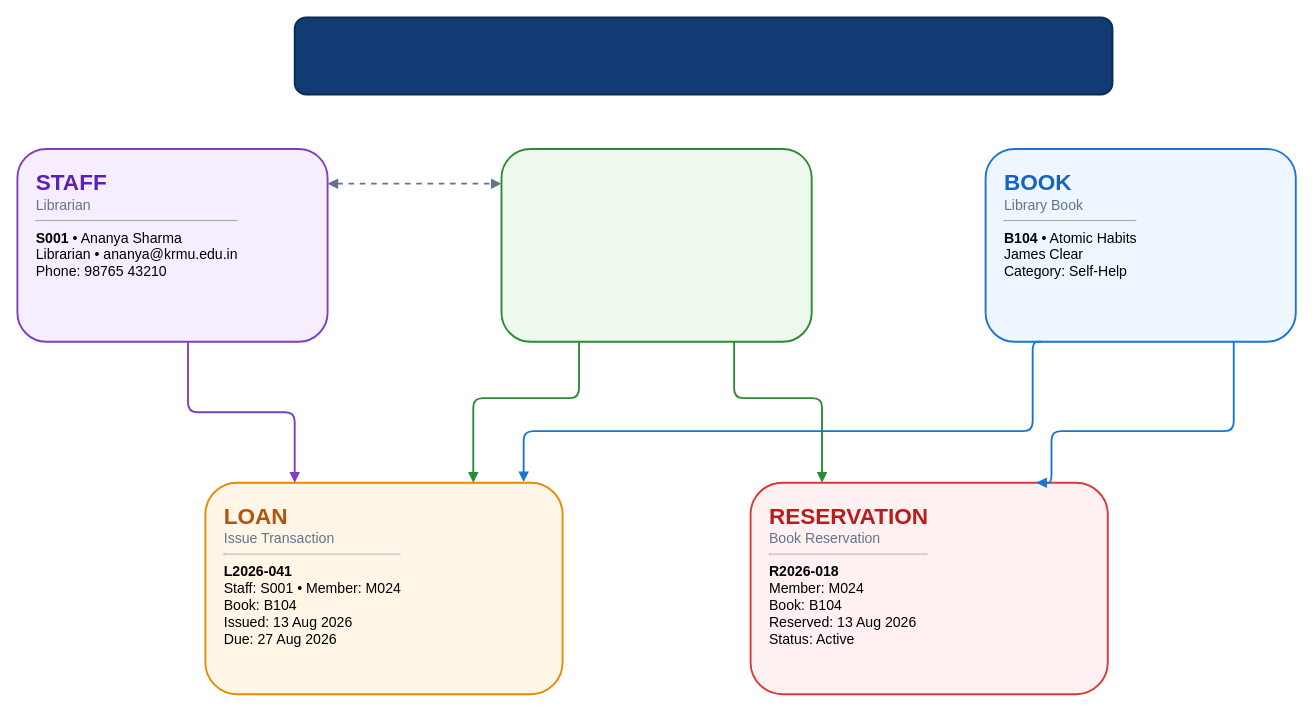
Some shapes in this 1312 by 711 pixel diagram are drawn without their labels. The shapes that lost their labels are listed below. From the top down, each one's centre as x and y in pixels, then its label:
At (703,55): "KRMU LIBRARY MANAGEMENT SYSTEM NETWORK MODEL (CODASYL)".
At (656,245): "MEMBER Student M024 • Yash Mehta B.Tech CSE • Semester 2 Phone: 98123 45678".
